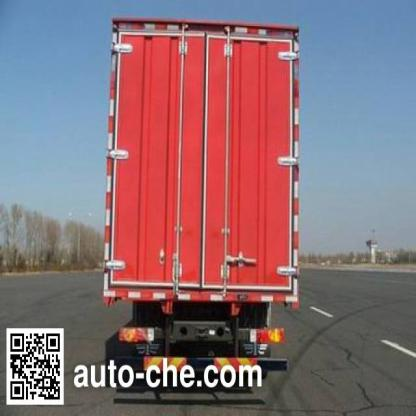normal-truck: (95, 5, 325, 346)
